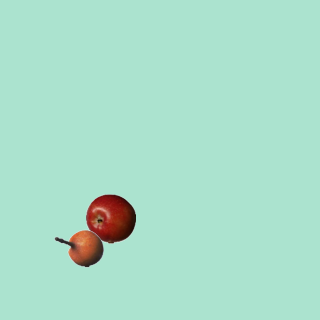Apple Braeburn: (85, 193, 135, 243)
Granadilla: (53, 223, 103, 273)
